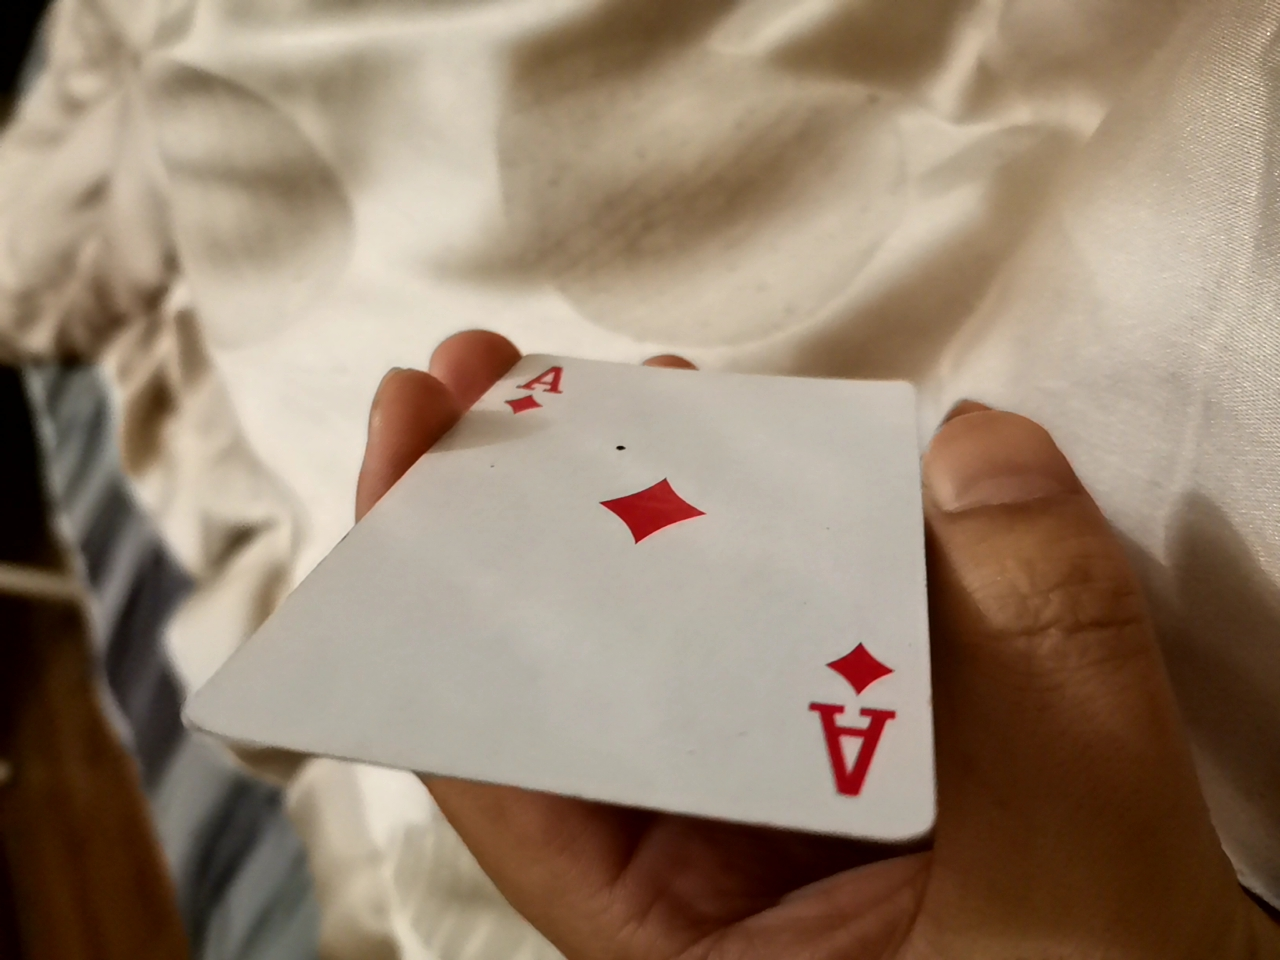fk a: (228, 354, 934, 899)
